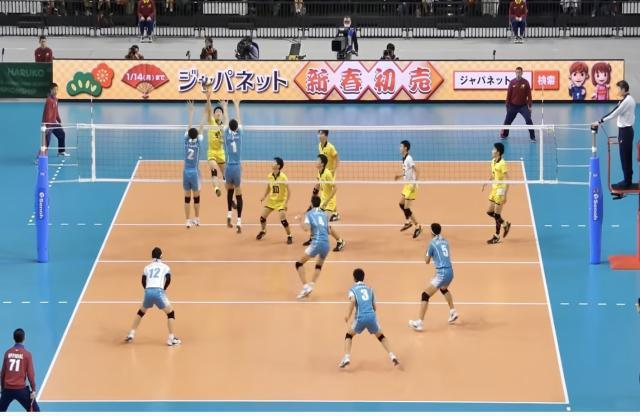block: (215, 93, 248, 236), (178, 98, 212, 232)
